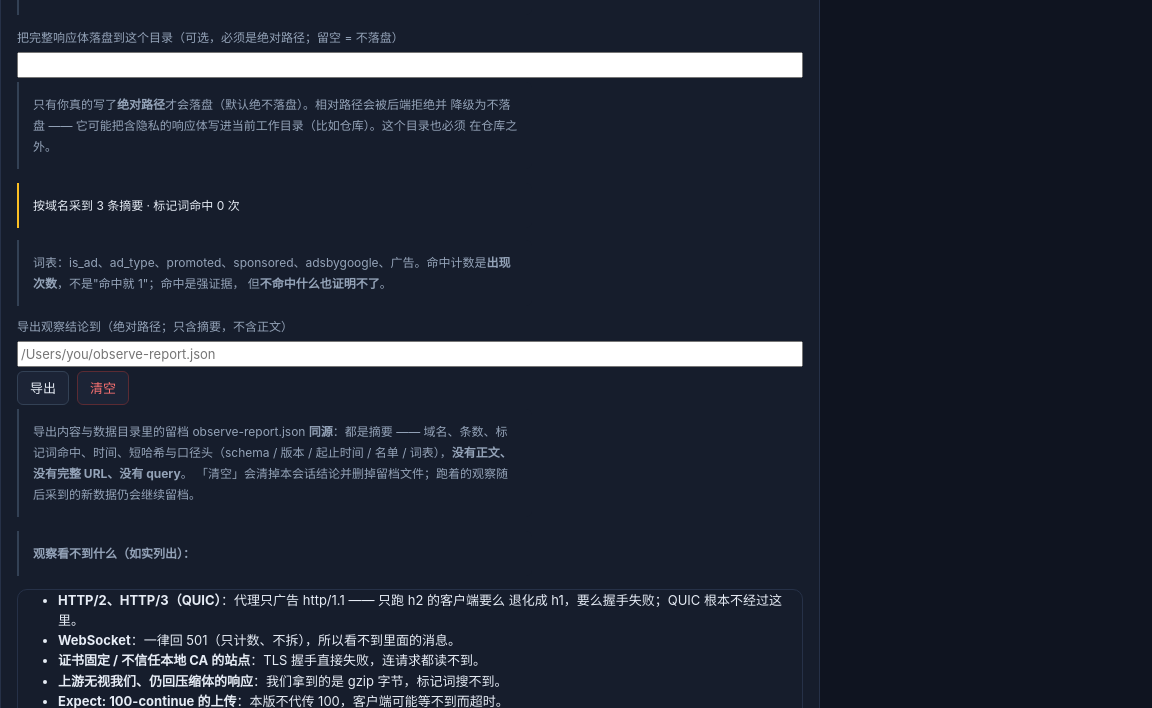
Scenario: 留档/导出：界面行为 › 导出失败（相对路径被后端拒）：原因必须显示出来，不是静默
(page scrolled)
Type "relative/leak.json" into the field with id "mitm-observe-export" at (410, 354), box [17,341,803,367]
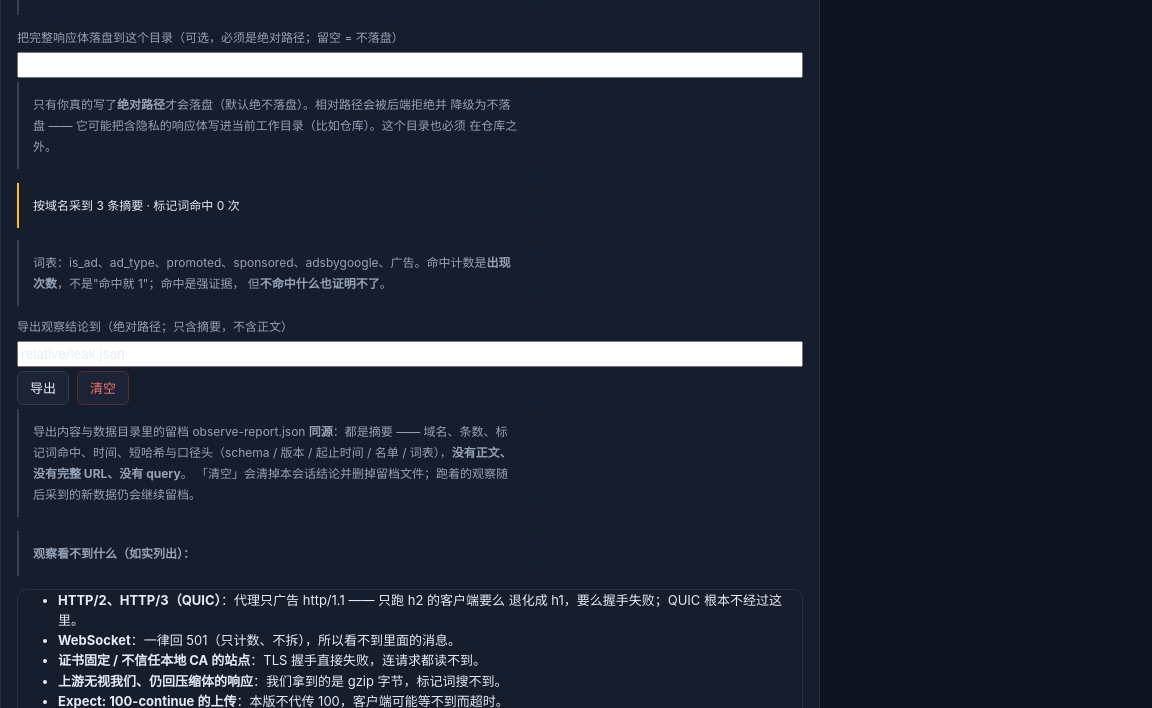
Click the button "导出" at (43, 388), box [17,371,69,405]
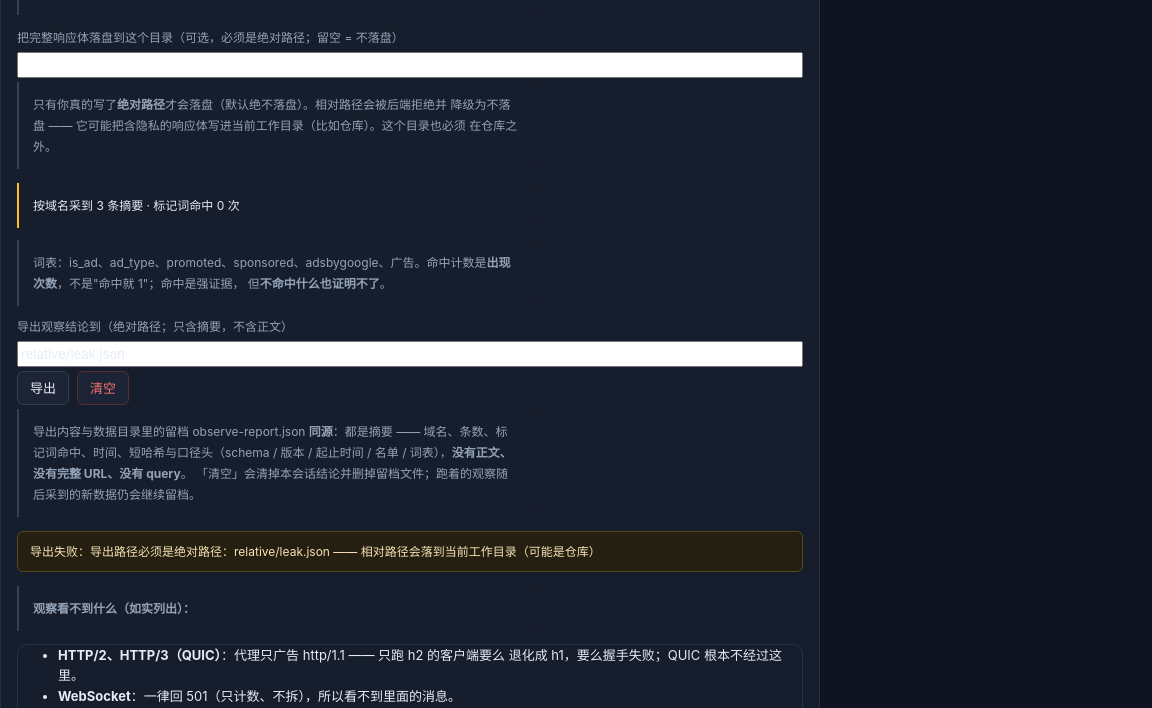
Expected: the text "当前工作目录" is shown, [33,97,517,154]
Now the text "导出失败" is shown, box [30,544,601,559]
